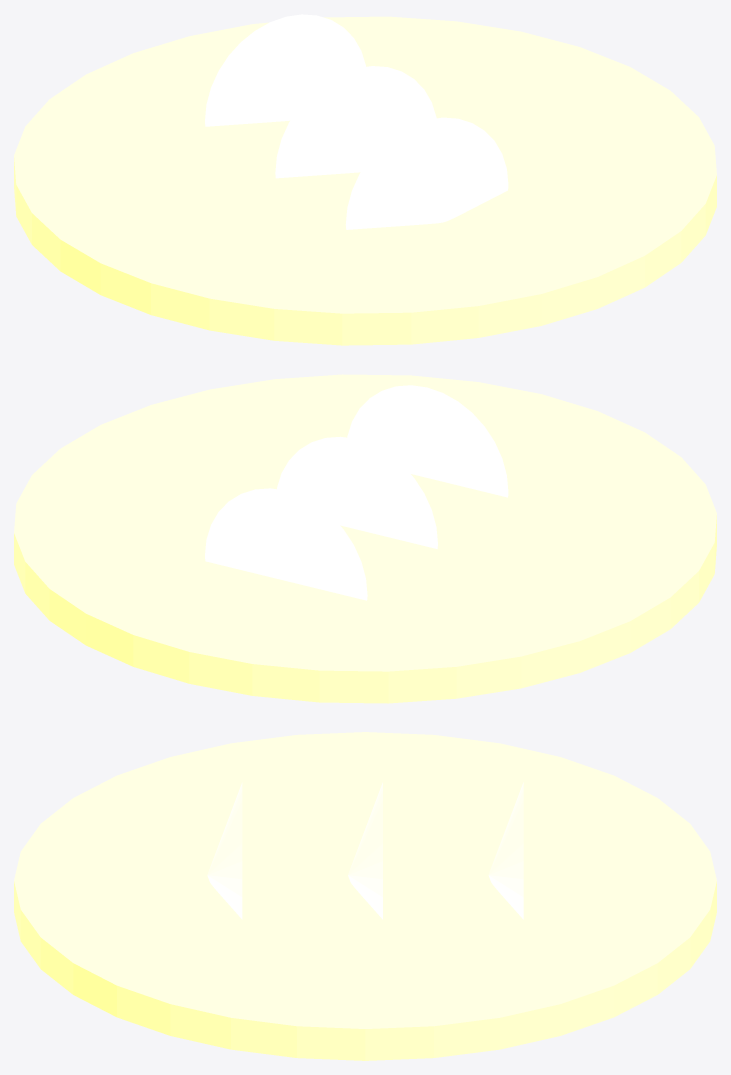
Rendered from speed_boost_pad.glb.
3 renders of one model, top to bottom at view 1: azimuth 30°, elevation 25°; view 2: azimuth 150°, elevation 25°; view 3: azimuth 270°, elevation 25°, orthographic.
Visible parts, largest first — view 1: Cylinder, Cone, Cone.001, Cone.002; view 2: Cylinder, Cone.002, Cone, Cone.001; view 3: Cylinder, Cone, Cone.002, Cone.001.
Part boxes in pixels (left/top/right/bottom): Cylinder: left=14, top=16, right=716, bottom=345; Cone: left=345, top=117, right=508, bottom=229; Cone.001: left=275, top=66, right=436, bottom=178; Cone.002: left=205, top=14, right=365, bottom=126; Cylinder: left=14, top=374, right=716, bottom=703; Cone.002: left=205, top=488, right=367, bottom=600; Cone: left=347, top=385, right=508, bottom=497; Cone.001: left=277, top=436, right=437, bottom=548; Cylinder: left=14, top=732, right=716, bottom=1060; Cone: left=207, top=782, right=242, bottom=919; Cone.002: left=488, top=782, right=523, bottom=919; Cone.001: left=348, top=782, right=382, bottom=919.
Size of the model in its own units: 6 by 1.6 by 6.
